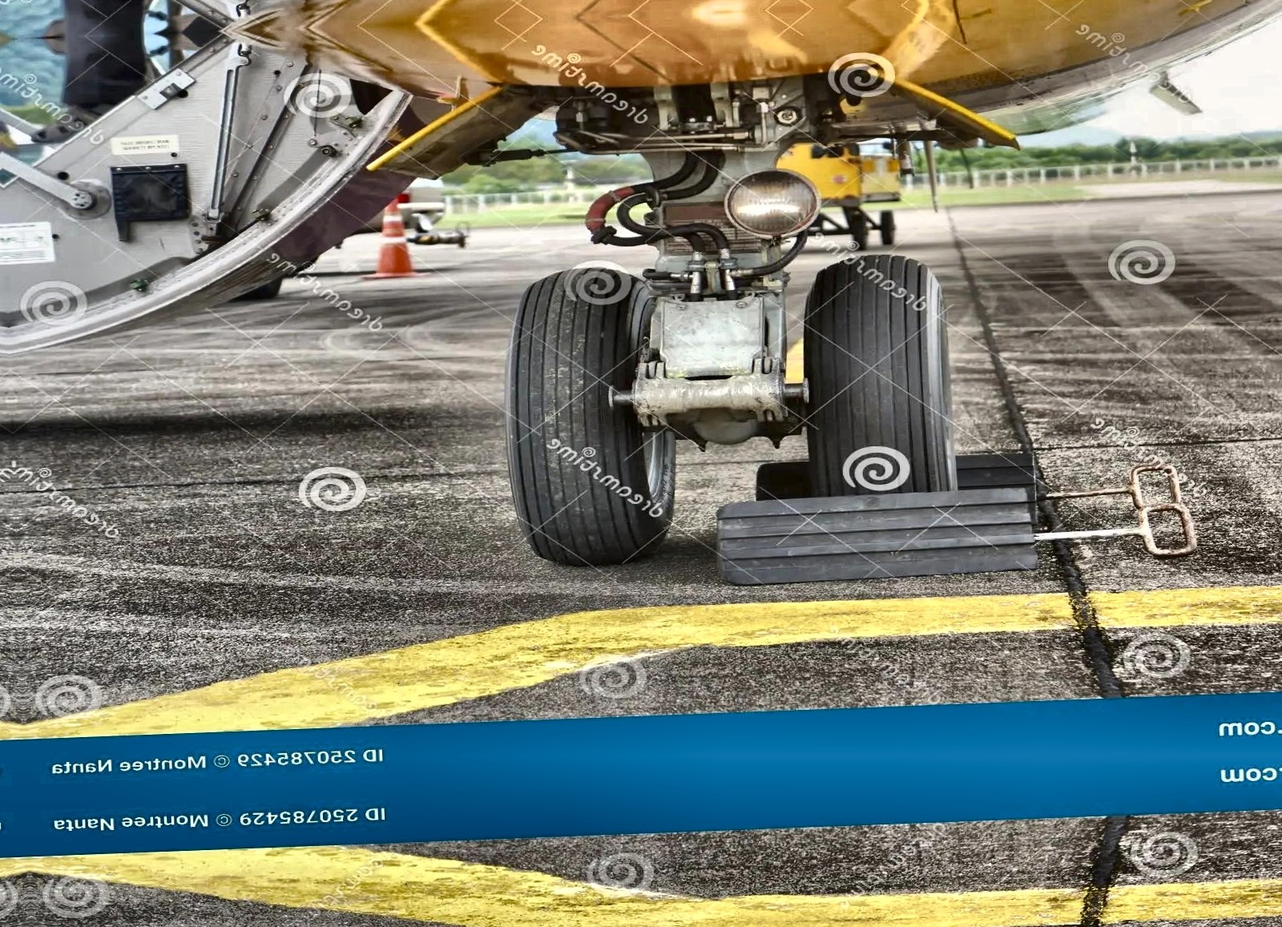chock: (709, 488, 1041, 583), (749, 447, 1048, 501)
wheel: (506, 267, 684, 563), (796, 250, 954, 496)
